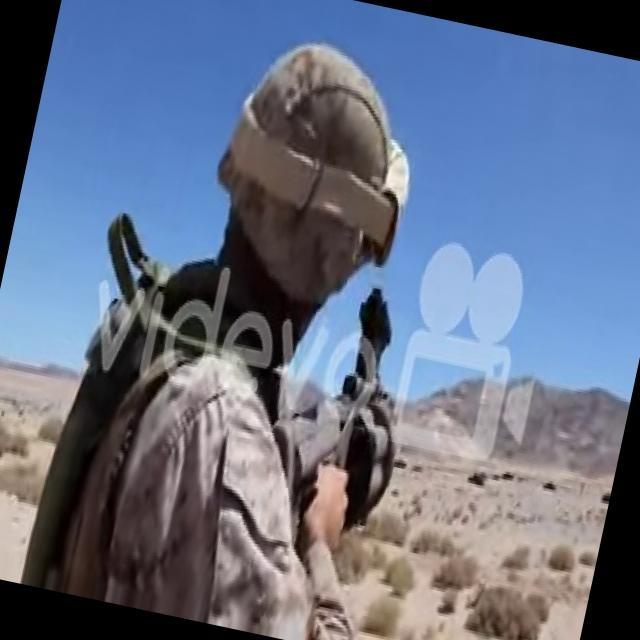rocket: (270, 294, 426, 551)
